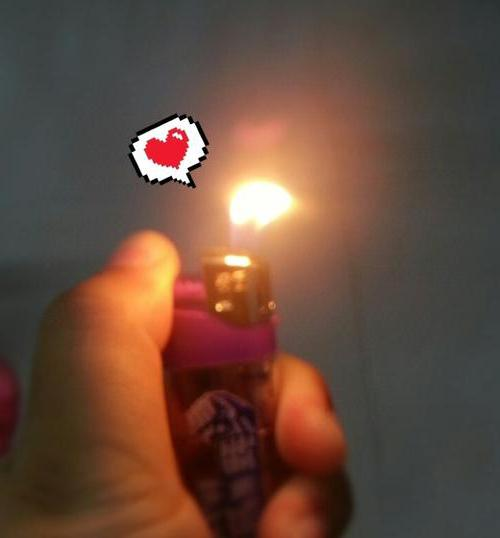fire: (220, 166, 293, 276)
